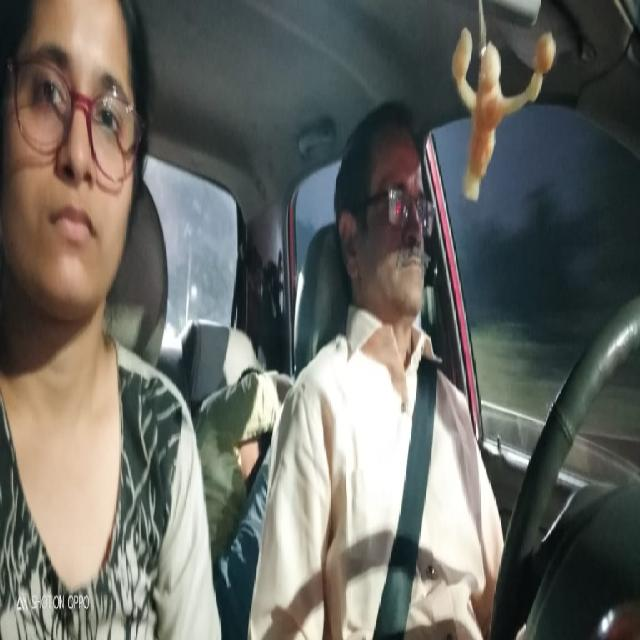person: (1, 0, 161, 324), (334, 98, 437, 340)
